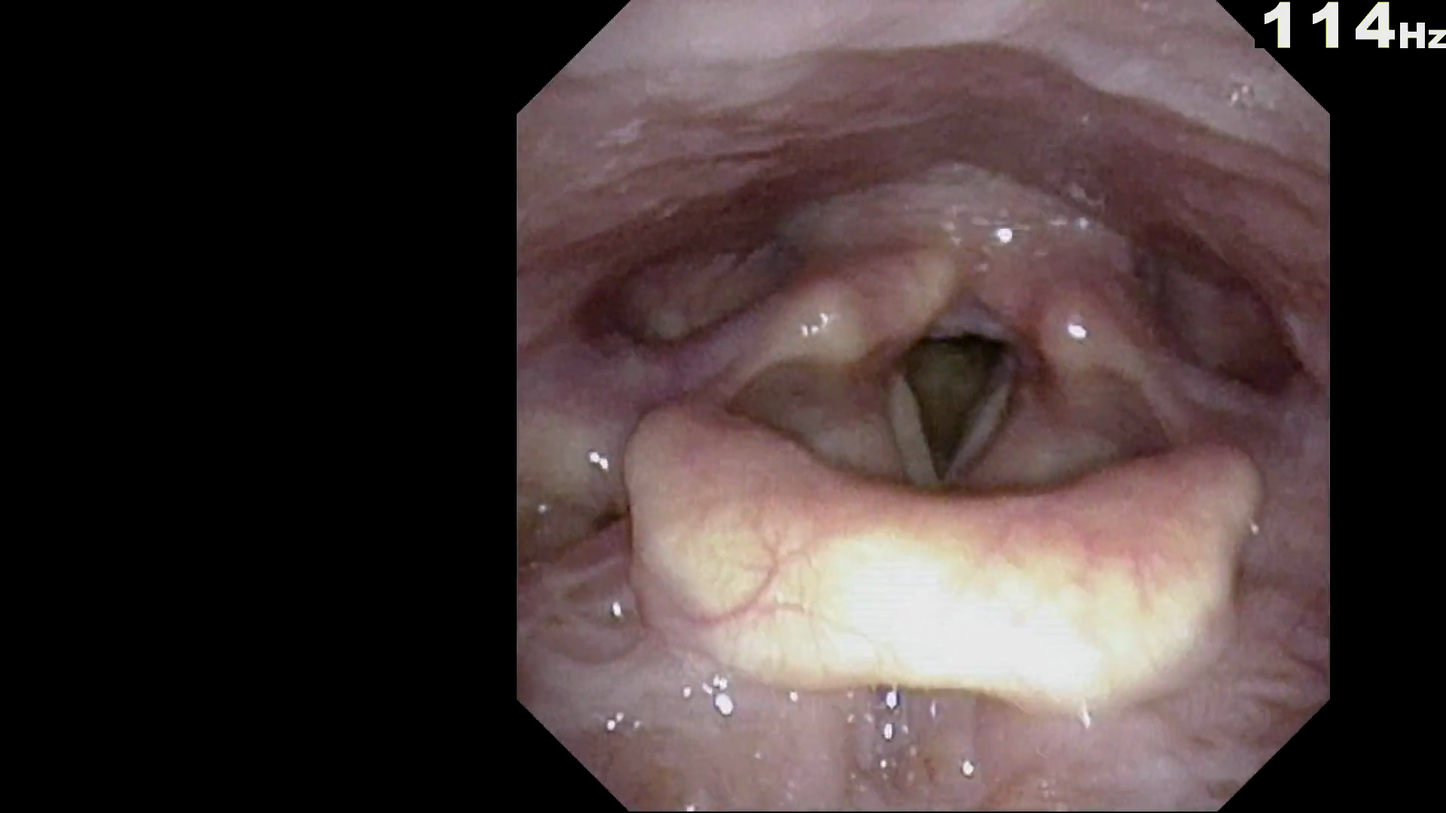epiglottis: (591, 399, 1280, 718)
trachea: (862, 304, 1041, 529)
